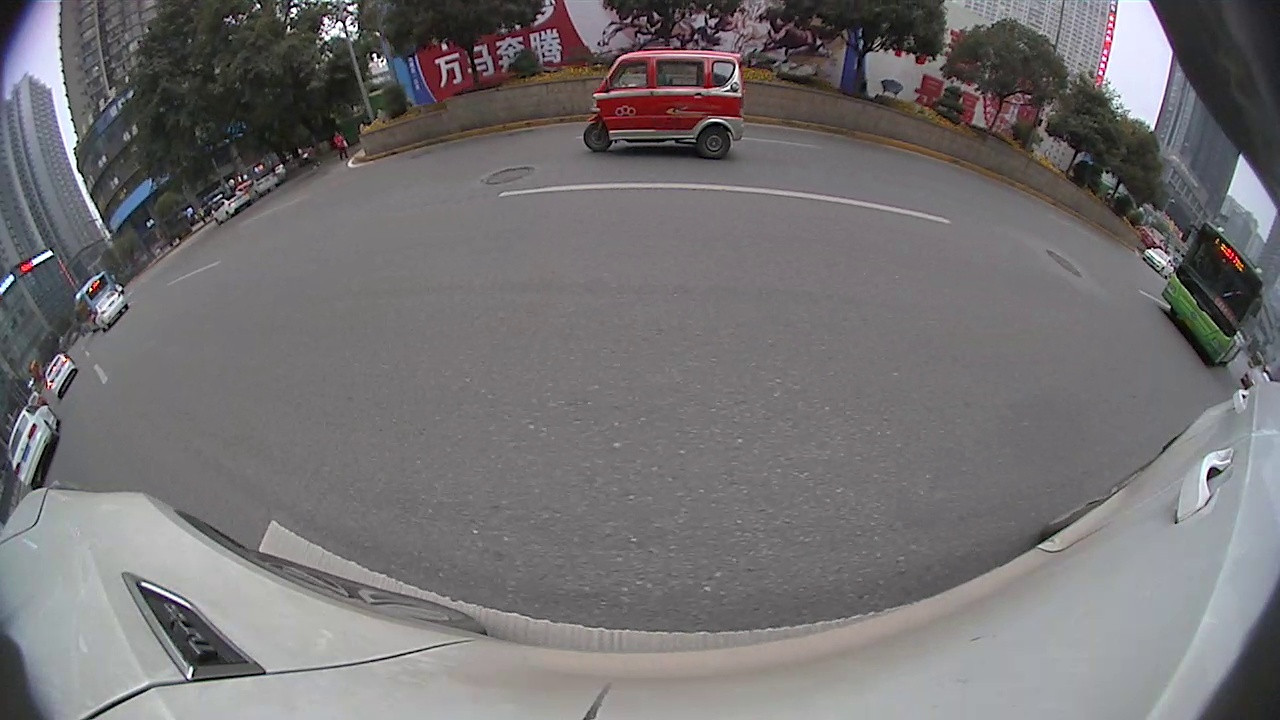bus: (1162, 221, 1266, 369), (73, 270, 114, 336)
car: (4, 403, 60, 490), (41, 350, 77, 398), (93, 286, 128, 331), (1140, 247, 1177, 275)
front: (579, 124, 614, 154)
rear: (693, 124, 728, 159)
rider: (581, 48, 746, 162)
